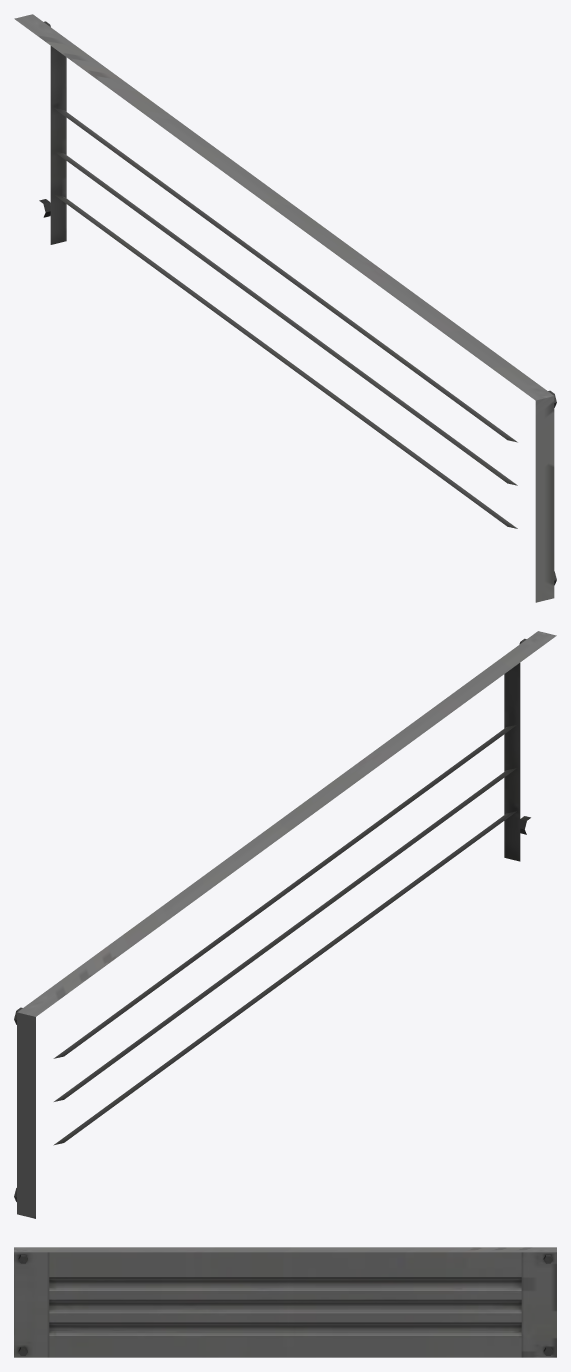
3 renders of one model, top to bottom at view 1: azimuth 30°, elevation 25°; view 2: azimuth 150°, elevation 25°; view 3: azimuth 270°, elevation 25°, orthographic. The views are drawn at different scales.
Visible parts, largest first — view 1: body0_model0_lod0_mesh0; view 2: body0_model0_lod0_mesh0; view 3: body0_model0_lod0_mesh0.
Boxes of the visible parts, bbox=[...] form: body0_model0_lod0_mesh0: bbox=[14, 14, 556, 602]; body0_model0_lod0_mesh0: bbox=[14, 631, 556, 1218]; body0_model0_lod0_mesh0: bbox=[14, 1247, 556, 1357].
Size of the model in its own units: 2.74 by 20.53 by 96.
Materials: 1 (1 with a texture image).
